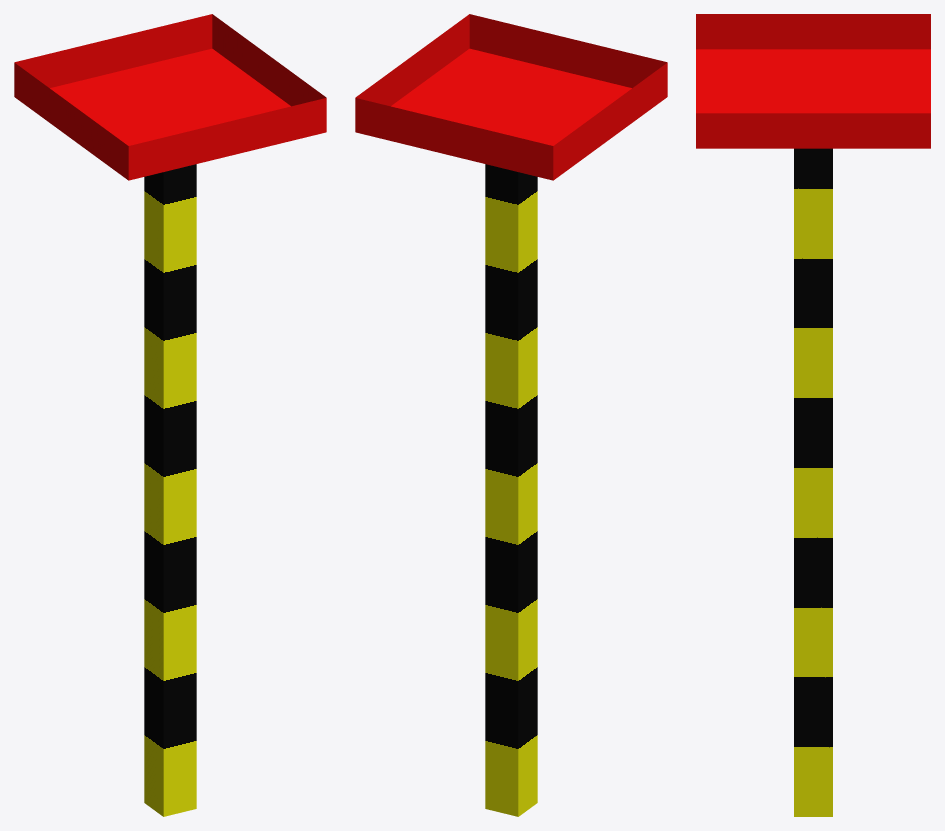
File: wl_pole_lift.glb
3 views of the same model, side by side, from view 1: azimuth 30°, elevation 25°; view 2: azimuth 150°, elevation 25°; view 3: azimuth 270°, elevation 25° (orthographic). The views are drawn at different scales.
Parts seen in each view (by area): view 1: wl_pole_lift; view 2: wl_pole_lift; view 3: wl_pole_lift.
Boxes of the visible parts, <box> form: wl_pole_lift: <box>14,14,326,816</box>; wl_pole_lift: <box>355,14,667,816</box>; wl_pole_lift: <box>696,14,930,816</box>.
Bounding box in the file's own units: 1.17 × 4.1 × 1.17.
1 material, 1 textured.
